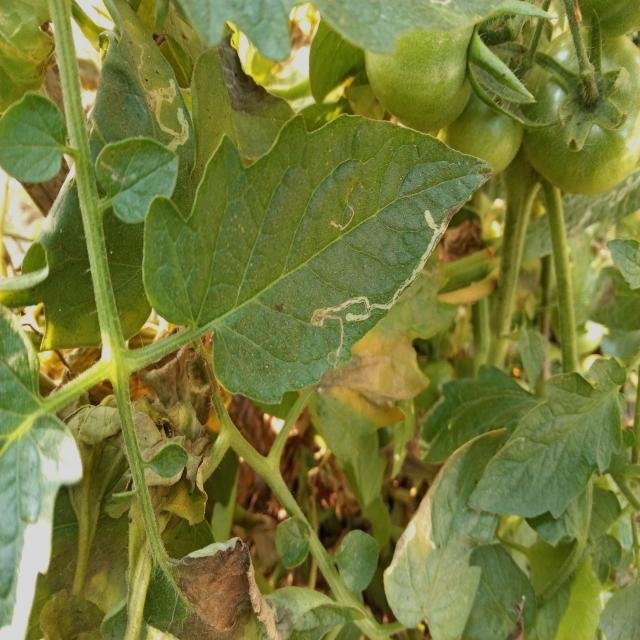Tuta absoluta: (307, 250, 444, 344), (425, 209, 443, 249), (334, 328, 346, 359)
